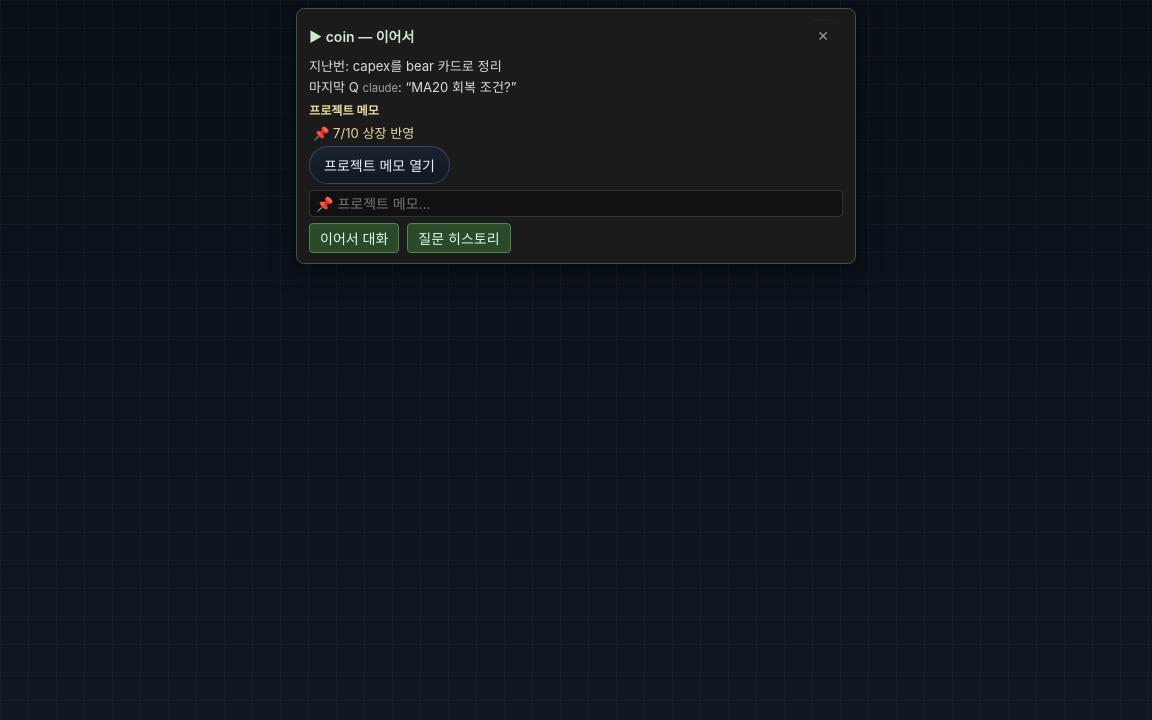
Test: ResumeBanner › labels legacy next notes as project notes and opens the shared drawer
The width and height of the screenshot is (1152, 720).
Expected: the text "프로젝트 메모" is shown, [309, 103, 379, 118]
Click the button "프로젝트 메모 열기" at (379, 165), box [309, 146, 450, 184]
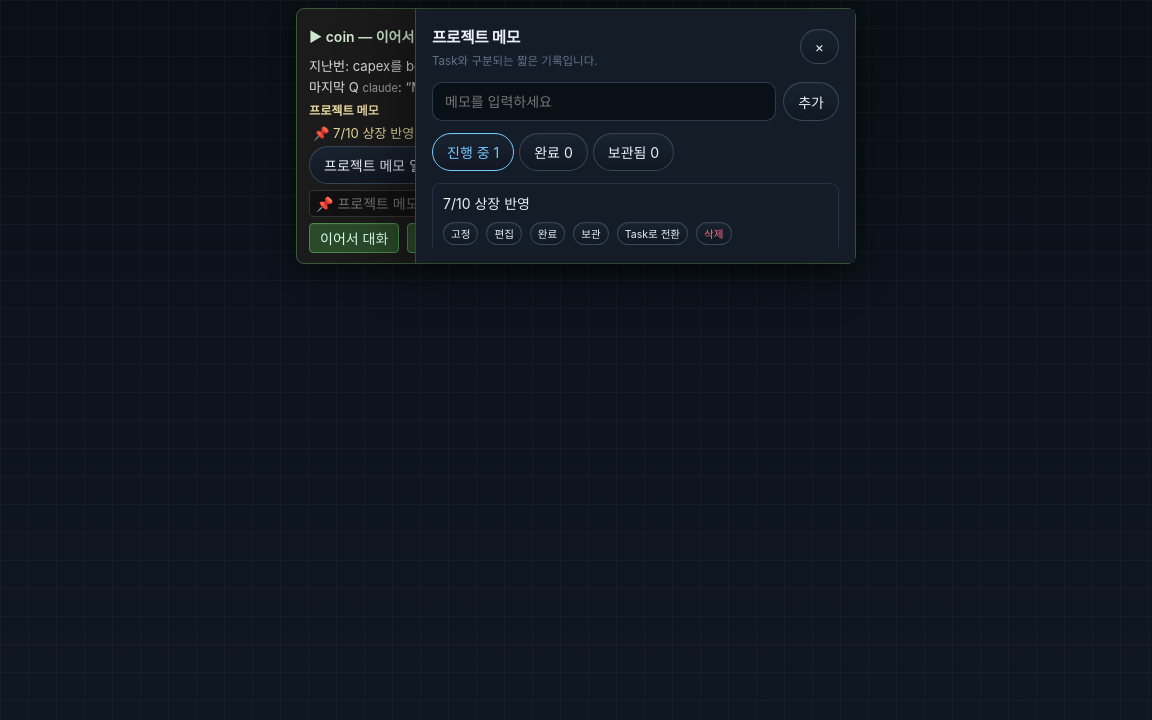
Expected: the dialog "프로젝트 메모" is shown, [415, 9, 855, 263]
